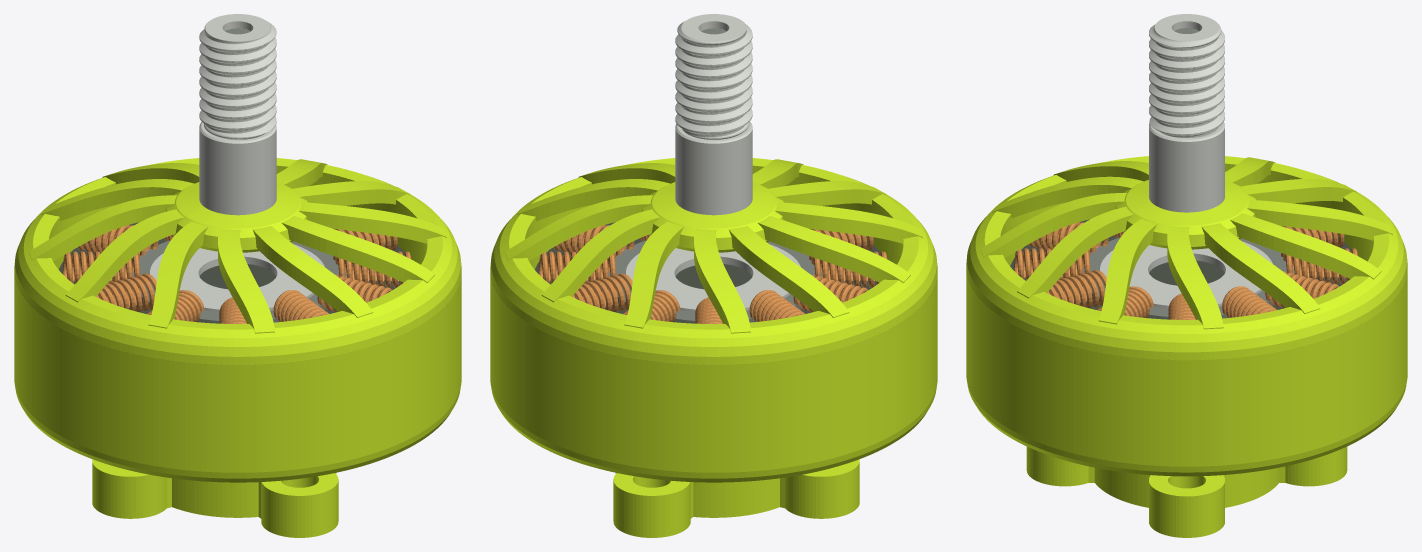
File: studio-motor.glb
3 views of the same model, side by side, from view 1: azimuth 30°, elevation 25°; view 2: azimuth 150°, elevation 25°; view 3: azimuth 270°, elevation 25° (orthographic).
Visible parts, largest first — view 1: Motorglocke_D28_93, Befestigungsfuß_4_M3, Welle_M5x0_8_7mm, Welle_D5, Nabe, Deckelspeiche_10, Deckelspeiche_09, Deckelspeiche_06, Lager_Deckring, Deckelspeiche_05, Deckelspeiche_11, Deckelspeiche_08 (+14 smaller); view 2: Motorglocke_D28_93, Befestigungsfuß_4_M3, Welle_M5x0_8_7mm, Welle_D5, Nabe, Deckelspeiche_06, Deckelspeiche_05, Deckelspeiche_02, Lager_Deckring, Deckelspeiche_01, Deckelspeiche_07, Deckelspeiche_04 (+14 smaller); view 3: Motorglocke_D28_93, Befestigungsfuß_4_M3, Welle_M5x0_8_7mm, Welle_D5, Nabe, Deckelspeiche_02, Deckelspeiche_01, Deckelspeiche_10, Lager_Deckring, Deckelspeiche_03, Deckelspeiche_09, Deckelspeiche_00 (+14 smaller).
Boxes of the visible parts, left/top/right/bottom form: Motorglocke_D28_93: left=14, top=158, right=461, bottom=482; Befestigungsfuß_4_M3: left=92, top=459, right=338, bottom=537; Welle_M5x0_8_7mm: left=199, top=14, right=276, bottom=139; Welle_D5: left=199, top=122, right=276, bottom=215; Nabe: left=166, top=182, right=307, bottom=252; Deckelspeiche_10: left=281, top=216, right=434, bottom=282; Deckelspeiche_09: left=252, top=226, right=373, bottom=317; Deckelspeiche_06: left=65, top=209, right=183, bottom=302; Lager_Deckring: left=150, top=244, right=324, bottom=312; Deckelspeiche_05: left=29, top=195, right=177, bottom=261; Deckelspeiche_11: left=298, top=202, right=446, bottom=243; Deckelspeiche_08: left=218, top=229, right=274, bottom=333; Motorglocke_D28_93: left=490, top=158, right=937, bottom=482; Befestigungsfuß_4_M3: left=613, top=459, right=859, bottom=537; Welle_M5x0_8_7mm: left=675, top=14, right=752, bottom=139; Welle_D5: left=675, top=121, right=752, bottom=215; Nabe: left=642, top=182, right=783, bottom=252; Deckelspeiche_06: left=757, top=216, right=910, bottom=282; Deckelspeiche_05: left=728, top=226, right=849, bottom=317; Deckelspeiche_02: left=541, top=209, right=659, bottom=302; Lager_Deckring: left=626, top=244, right=800, bottom=312; Deckelspeiche_01: left=505, top=195, right=653, bottom=261; Deckelspeiche_07: left=774, top=202, right=922, bottom=243; Deckelspeiche_04: left=694, top=229, right=750, bottom=333; Motorglocke_D28_93: left=966, top=156, right=1407, bottom=476; Befestigungsfuß_4_M3: left=1026, top=446, right=1347, bottom=537; Welle_M5x0_8_7mm: left=1149, top=14, right=1224, bottom=137; Welle_D5: left=1149, top=122, right=1224, bottom=212; Nabe: left=1116, top=180, right=1255, bottom=249; Deckelspeiche_02: left=1230, top=213, right=1381, bottom=279; Deckelspeiche_01: left=1201, top=223, right=1320, bottom=313; Deckelspeiche_10: left=1017, top=207, right=1133, bottom=298; Lager_Deckring: left=1100, top=241, right=1272, bottom=308; Deckelspeiche_03: left=1247, top=199, right=1392, bottom=240; Deckelspeiche_09: left=981, top=193, right=1126, bottom=257; Deckelspeiche_00: left=1167, top=226, right=1223, bottom=329.
Size of the model in its own units: 0.0289 by 0.032 by 0.0289.
